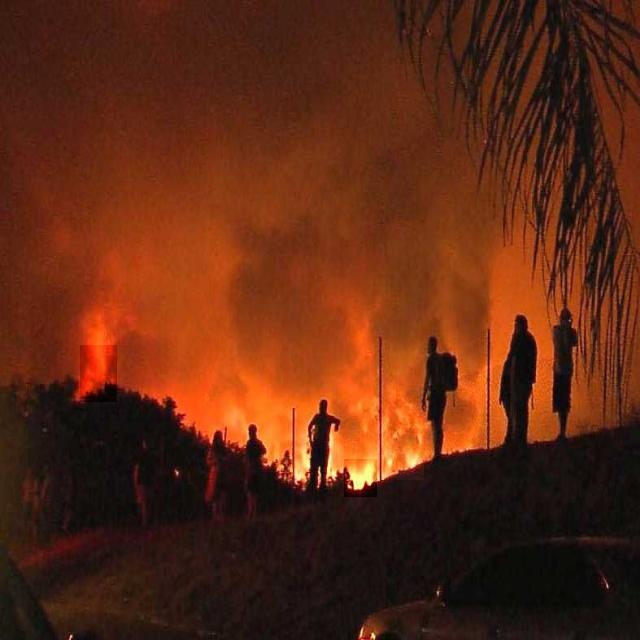Fire: (80, 306, 117, 402), (280, 443, 324, 492), (385, 433, 424, 480), (344, 459, 377, 497)
Smoke: (0, 0, 512, 345)
